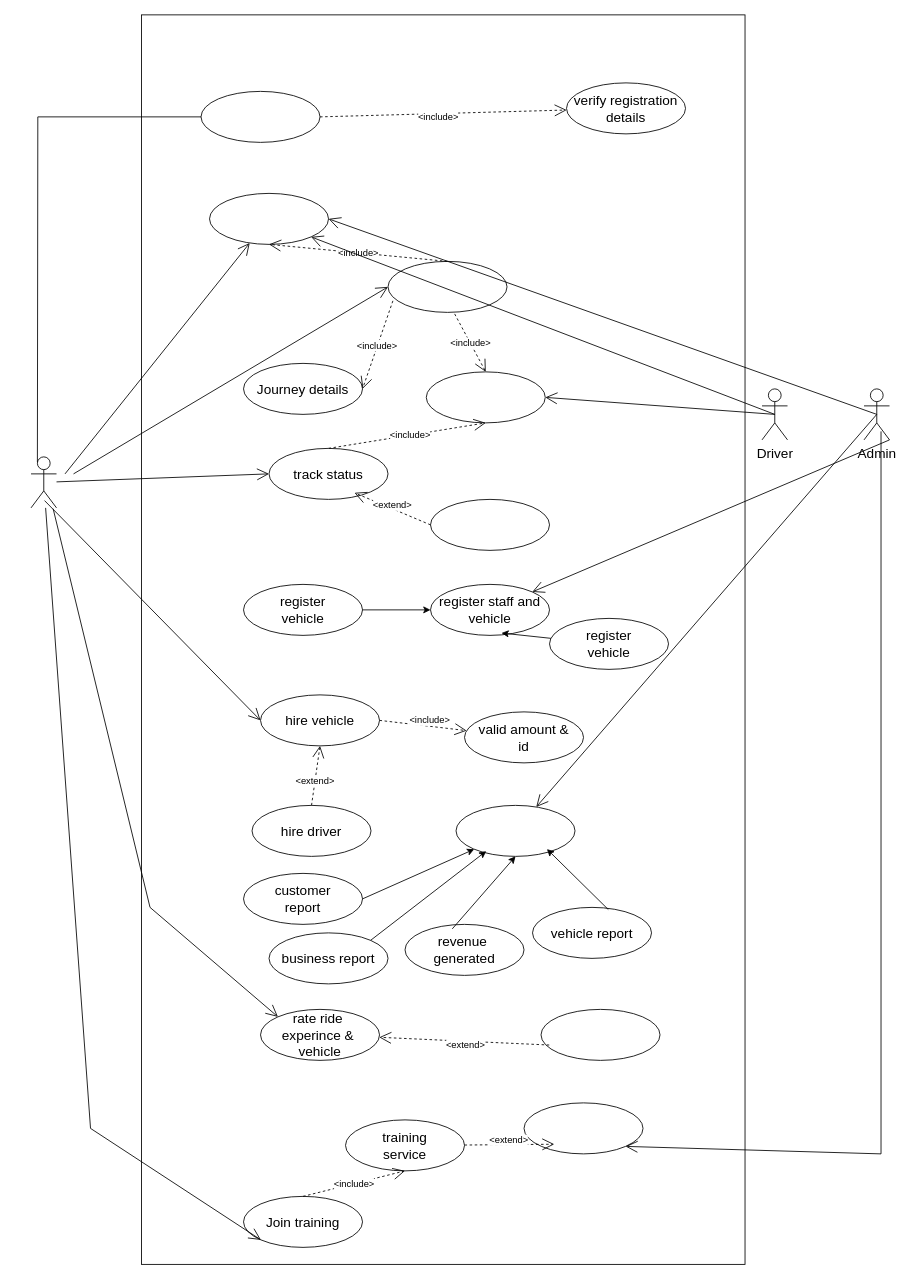
This 916x1279 diagram has some shape labels left out. Each missing label, with the centre of its shape:
"book cab" belongs at (447,286).
"Customer" belongs at (43,482).
"driver confirmation" belongs at (485,397).
"login" belongs at (269,218).
"post training" belongs at (583,1128).
"report generation" belongs at (515,830).
"suggestion" belongs at (600,1034).
"Take membership" belongs at (260,116).
"visualize location" belongs at (490,524).
